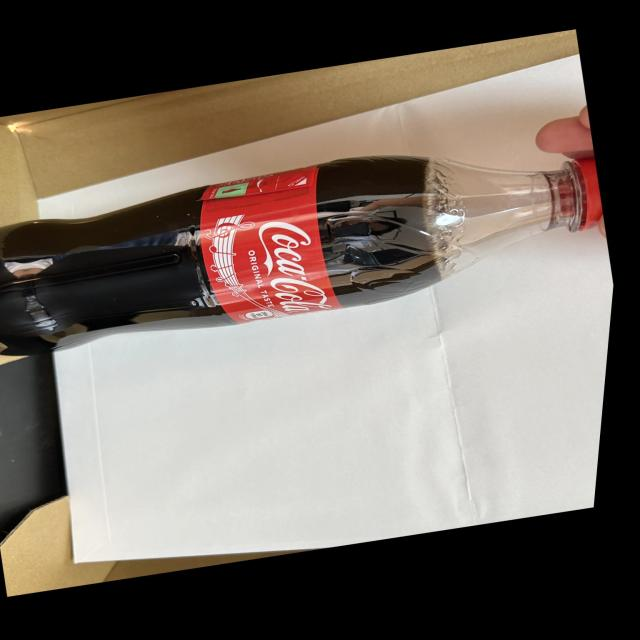high: (0, 156, 601, 356)
